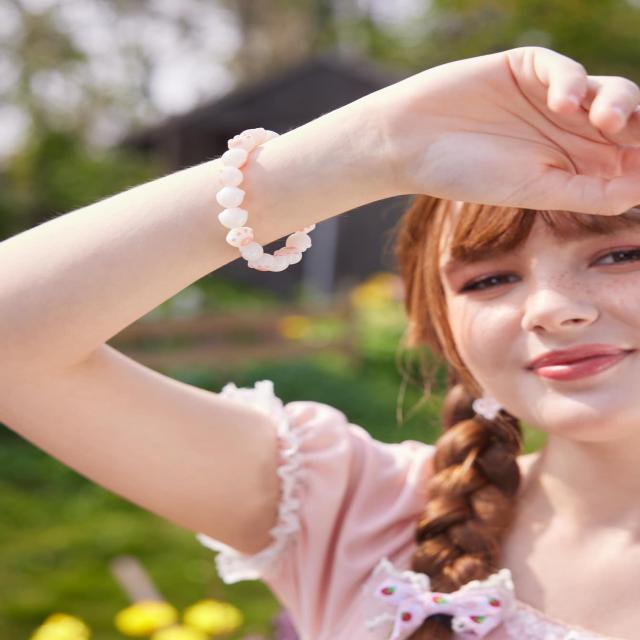bracelet: (166, 86, 357, 306)
